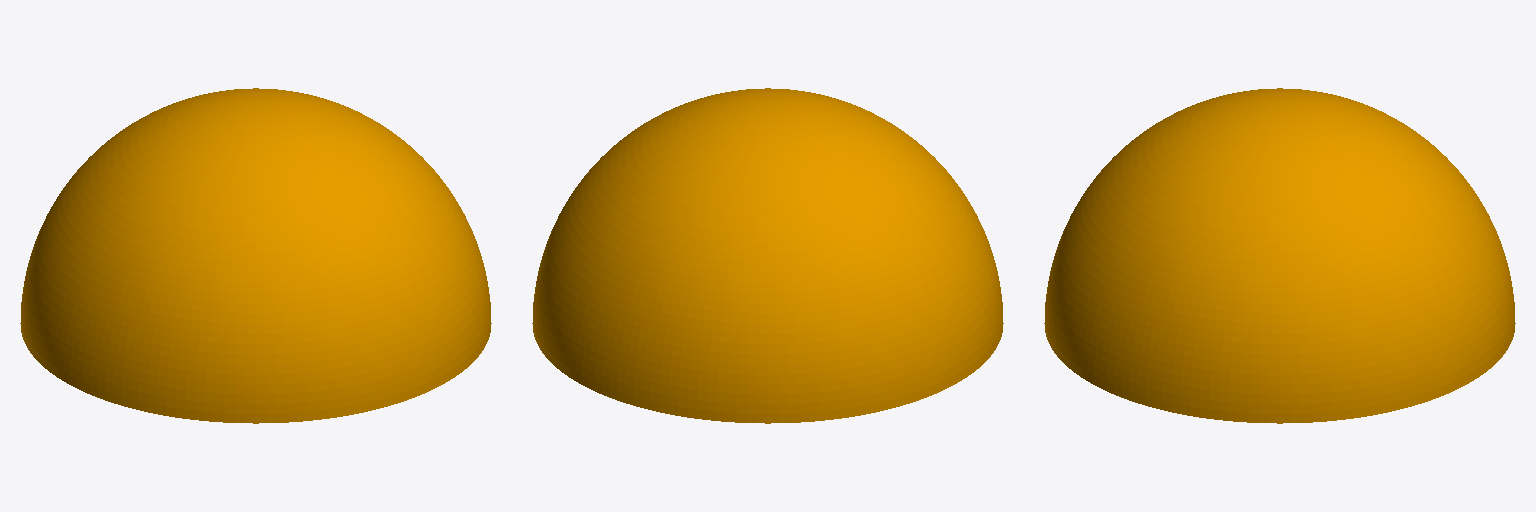
URDF robot description (semisphere_with_frame):
<?xml version="1.0" ?>
<robot xmlns:xacro="http://www.ros.org/wiki/xacro" name="semisphere_with_frame">

    <link name="semisphere">
        <inertial>
            <origin xyz="0.0 0.0 0.049" rpy="0 0 0"/>
            <mass value="0.314"/>
            <inertia ixx="0.001" ixy="0.0" ixz="0.0" iyy="0.001" iyz="0.0" izz="0.002"/>
        </inertial>

        <visual>
            <origin xyz="0.0 0.0 0.0" rpy="0.0 0.0 0.0"/>
            <geometry>
                <mesh filename="./meshes/semisphere_with_frame/semisphere_with_frame.obj" scale="1 1 1"/>
            </geometry>
        </visual>

        <collision>
            <origin xyz="0.0 0.0 0.0" rpy="0.0 0.0 0.0"/>
            <geometry>
                <mesh filename="./meshes/semisphere_collision/semisphere_collision.obj" scale="1 1 1"/>
            </geometry>
        </collision>
    </link>

</robot>

--- Facts derived from the render (not from the file) ---
3 views of the same robot in one strip: view 1: azimuth 30°, elevation 25°; view 2: azimuth 150°, elevation 25°; view 3: azimuth 270°, elevation 25° (orthographic).
Robot: semisphere_with_frame — 1 links, 0 joints (none); root link semisphere; default pose: every joint at zero.
Links seen in each view (by area): view 1: semisphere; view 2: semisphere; view 3: semisphere.
Link boxes in pixels (x1,y1,x2,y2): semisphere: (20, 88, 491, 423); semisphere: (532, 88, 1003, 423); semisphere: (1044, 88, 1515, 423).
Bounding box of the posed robot: 0.2 × 0.2 × 0.11 m (x, y, z).
Meshes: 1 distinct files referenced, 1 mesh visuals loaded (1 OBJ).
